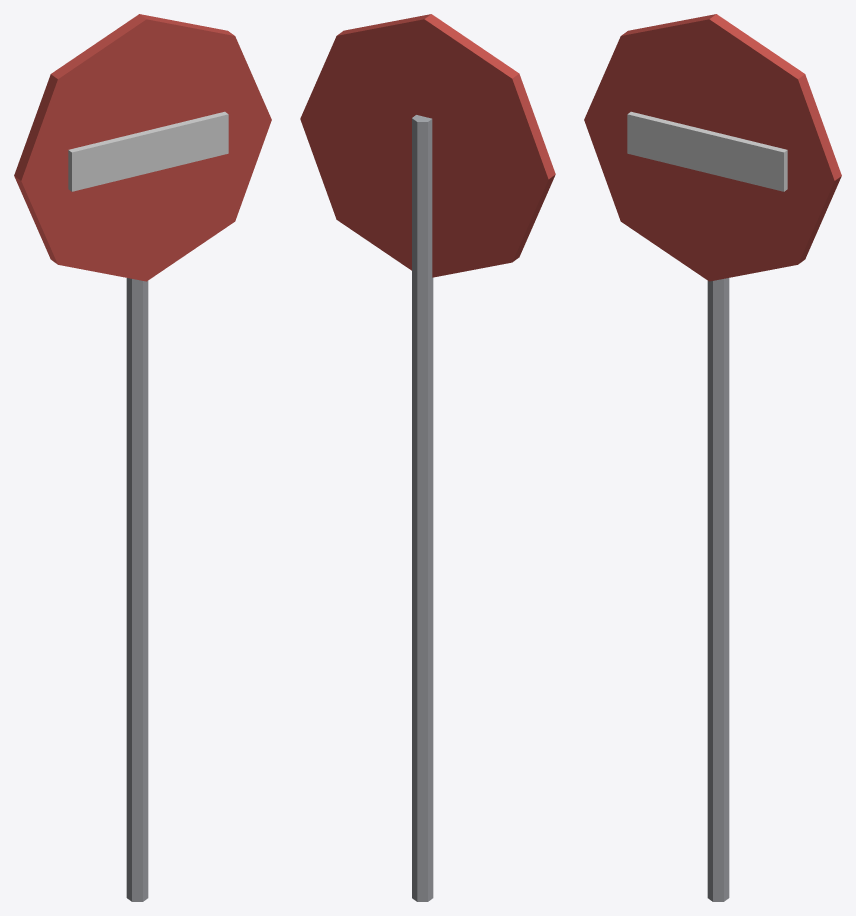
File: Tabela_Dur.glb
3 views of the same model, side by side, from view 1: azimuth 30°, elevation 25°; view 2: azimuth 150°, elevation 25°; view 3: azimuth 330°, elevation 25° (orthographic).
Parts seen in each view (by area): view 1: Tabela_Dur; view 2: Tabela_Dur; view 3: Tabela_Dur.
Part boxes in pixels (x1=…): Tabela_Dur: x1=14, y1=14, x2=271, y2=901; Tabela_Dur: x1=300, y1=14, x2=555, y2=901; Tabela_Dur: x1=584, y1=14, x2=841, y2=901.
Bounding box in the file's own units: 0.8 × 2.7 × 0.1.
